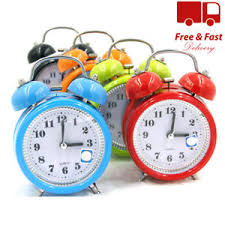alarm_clock: (121, 45, 217, 183), (128, 45, 217, 183)
